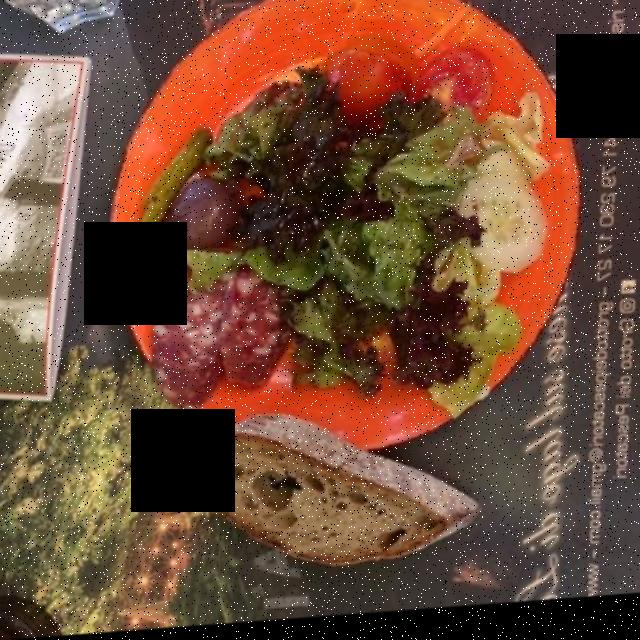bread-sourdough: (199, 427, 466, 565)
cucumber: (457, 147, 564, 291)
cucumber-pickled: (126, 120, 220, 258)
onion: (158, 163, 255, 261)
salad-leaf-salad-green: (190, 68, 526, 415)
salami: (140, 255, 286, 413)
tomato-raw: (308, 28, 511, 131)
